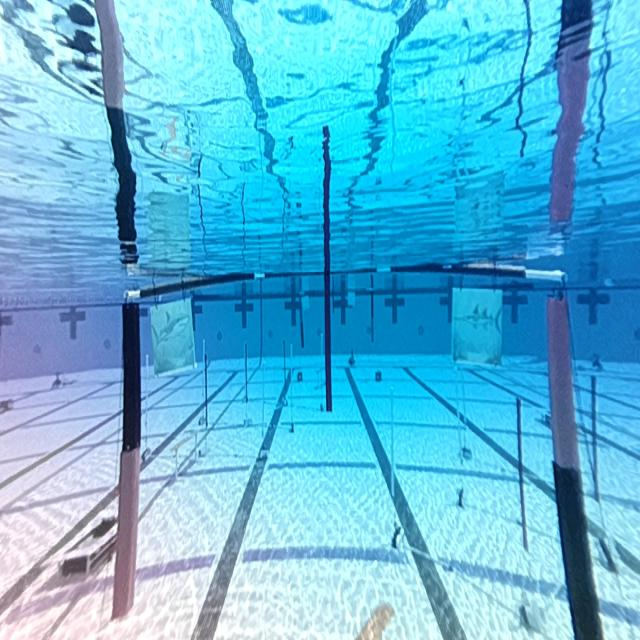pointed_nose: (450, 283, 504, 366)
round_nose: (151, 302, 197, 371)
